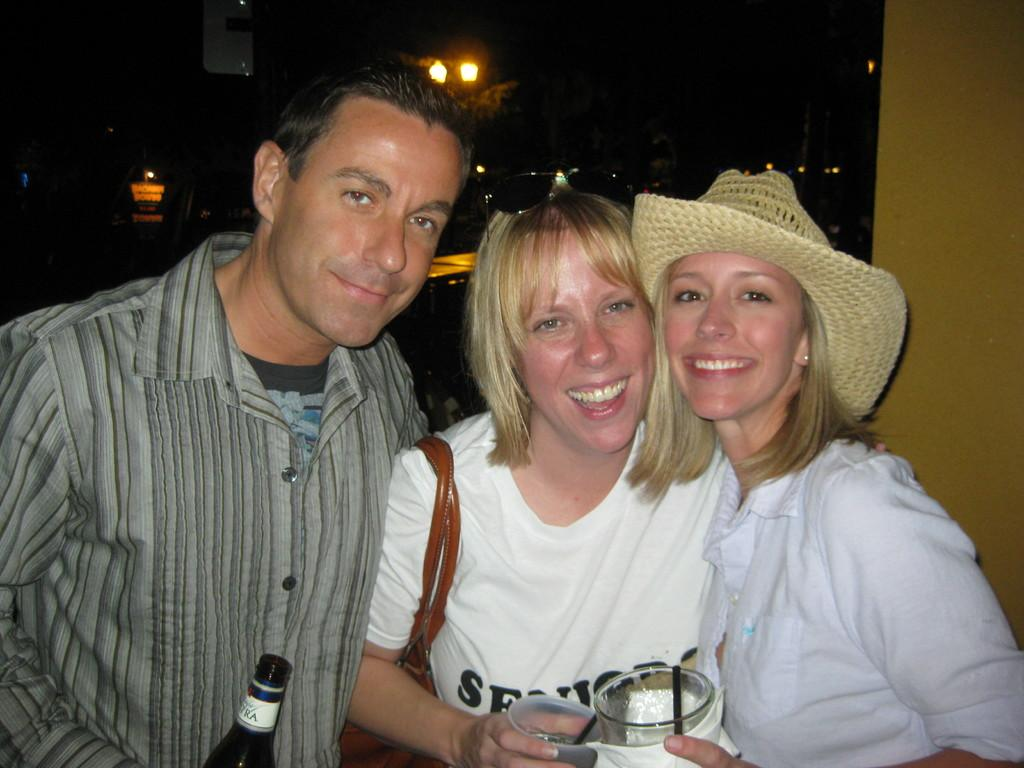Hat: (624, 171, 910, 421)
